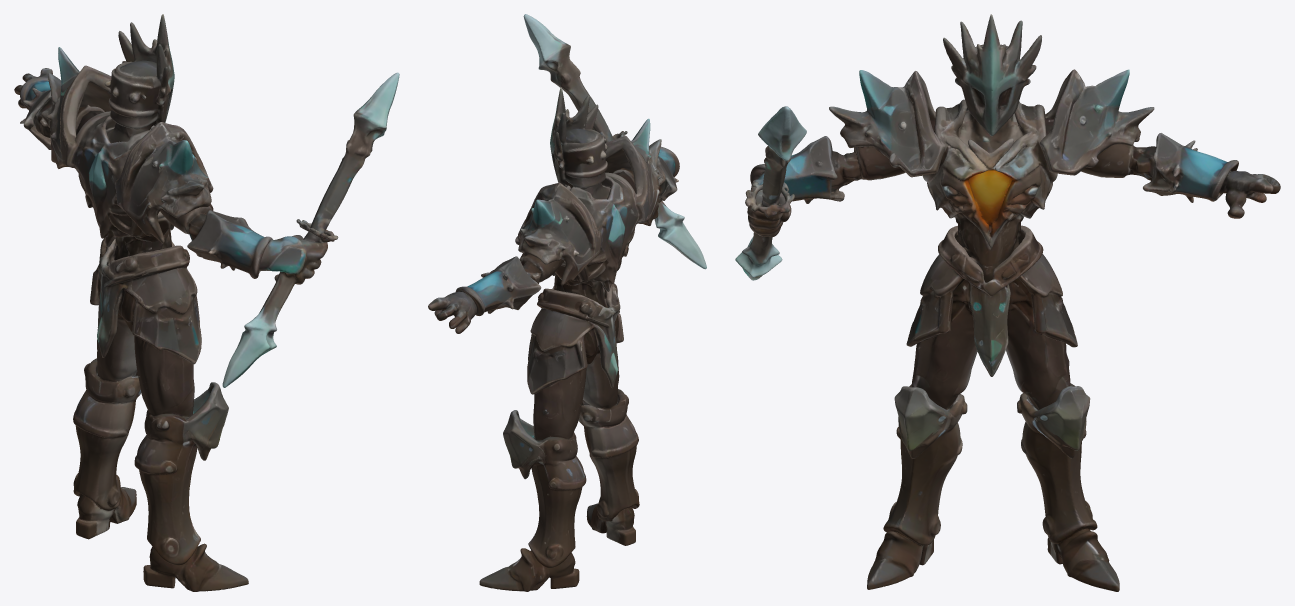
The model's file is عدو_حارس_البلور.glb.
The picture shows the model from 3 angles, left to right: view 1: azimuth 30°, elevation 25°; view 2: azimuth 150°, elevation 25°; view 3: azimuth 270°, elevation 25°; orthographic projection. The views are drawn at different scales.
Parts seen in each view (by area): view 1: tripo_node_f6c4cdee-f79e-497e-87ee-efdb2a751408; view 2: tripo_node_f6c4cdee-f79e-497e-87ee-efdb2a751408; view 3: tripo_node_f6c4cdee-f79e-497e-87ee-efdb2a751408.
Part boxes in pixels (box(x1,y1,x2,y2)): tripo_node_f6c4cdee-f79e-497e-87ee-efdb2a751408: box(14, 14, 399, 591); tripo_node_f6c4cdee-f79e-497e-87ee-efdb2a751408: box(428, 14, 706, 591); tripo_node_f6c4cdee-f79e-497e-87ee-efdb2a751408: box(735, 14, 1280, 591).
Size of the model in its own units: 0.4128 by 1 by 0.8792.
1 material, 1 textured.
